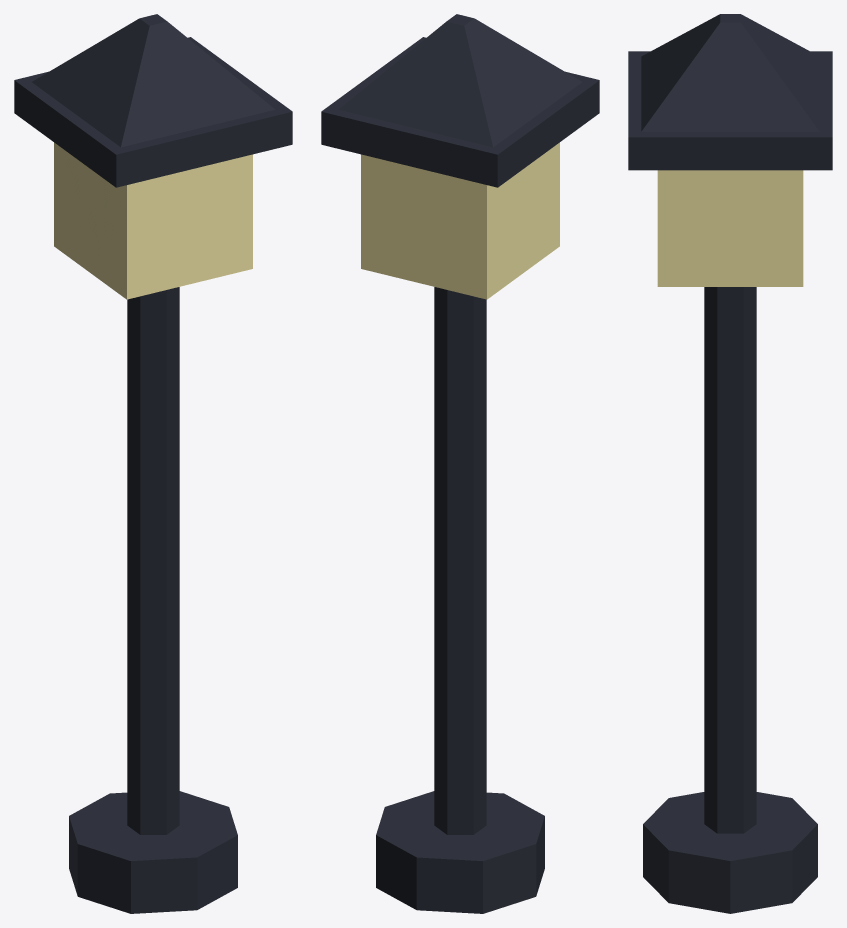
Rendered from lamp_post.fbx.
The picture shows the model from 3 angles, left to right: view 1: azimuth 30°, elevation 25°; view 2: azimuth 150°, elevation 25°; view 3: azimuth 270°, elevation 25°; orthographic projection.
Visible parts, largest first — view 1: Cylinder.001, Cube.001, Cone, Cylinder, Cube; view 2: Cylinder.001, Cube.001, Cone, Cylinder, Cube; view 3: Cylinder.001, Cone, Cube.001, Cylinder, Cube.
Boxes of the visible parts, x1=… form: Cylinder.001: x1=127, y1=287, x2=179, y2=834; Cube.001: x1=54, y1=142, x2=252, y2=299; Cone: x1=32, y1=14, x2=274, y2=147; Cylinder: x1=69, y1=791, x2=237, y2=913; Cube: x1=14, y1=37, x2=292, y2=187; Cylinder.001: x1=434, y1=287, x2=486, y2=834; Cube.001: x1=361, y1=142, x2=559, y2=299; Cone: x1=339, y1=14, x2=581, y2=147; Cylinder: x1=376, y1=791, x2=544, y2=913; Cube: x1=321, y1=37, x2=599, y2=187; Cylinder.001: x1=704, y1=287, x2=756, y2=833; Cone: x1=641, y1=14, x2=819, y2=131; Cube.001: x1=657, y1=170, x2=803, y2=286; Cylinder: x1=643, y1=792, x2=817, y2=913; Cube: x1=628, y1=51, x2=832, y2=170.
Bounding box in the file's own units: 1.4 × 6.5 × 1.4.
